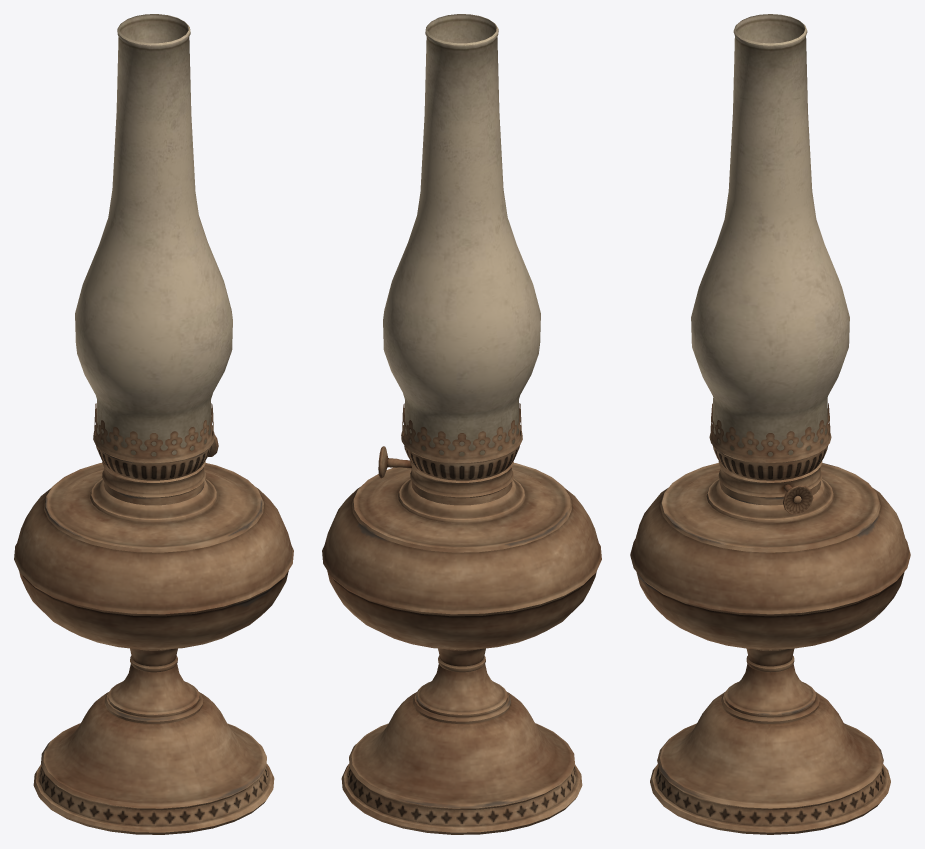
Rendered from lamp-oil-table-b.glb.
The picture shows the model from 3 angles, left to right: view 1: azimuth 30°, elevation 25°; view 2: azimuth 150°, elevation 25°; view 3: azimuth 270°, elevation 25°; orthographic projection.
Parts seen in each view (by area): view 1: lamp-oil-table-b; view 2: lamp-oil-table-b; view 3: lamp-oil-table-b.
Boxes of the visible parts, left/top/right/bottom form: lamp-oil-table-b: left=14, top=14, right=293, bottom=834; lamp-oil-table-b: left=322, top=14, right=601, bottom=834; lamp-oil-table-b: left=630, top=14, right=910, bottom=834.
Bounding box in the file's own units: 0.166 × 0.4935 × 0.166.
2 materials, 2 textured.
